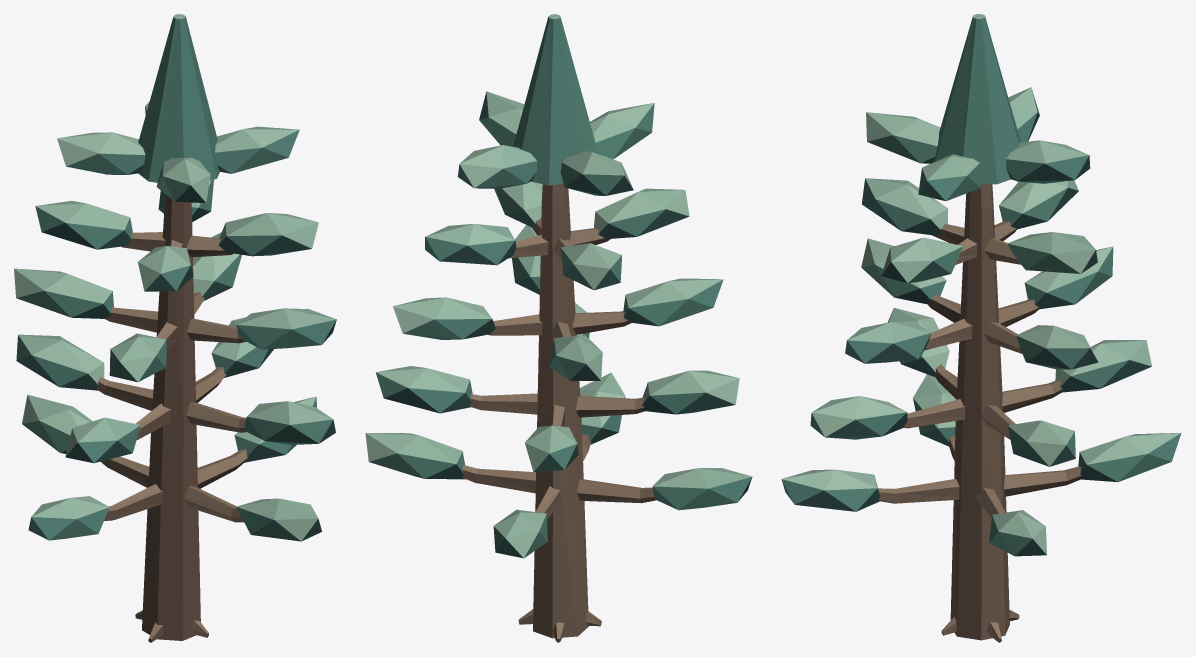
The picture shows the model from 3 angles, left to right: view 1: azimuth 30°, elevation 25°; view 2: azimuth 150°, elevation 25°; view 3: azimuth 270°, elevation 25°; orthographic projection.
Visible parts, largest first — view 1: WK_Tree_Fir_SilverYoung_LOD0_High; view 2: WK_Tree_Fir_SilverYoung_LOD0_High; view 3: WK_Tree_Fir_SilverYoung_LOD0_High.
Boxes of the visible parts, <box> form: WK_Tree_Fir_SilverYoung_LOD0_High: <box>14,14,336,642</box>; WK_Tree_Fir_SilverYoung_LOD0_High: <box>365,14,752,642</box>; WK_Tree_Fir_SilverYoung_LOD0_High: <box>781,14,1181,642</box>.
Size of the model in its own units: 4.31 by 7.45 by 4.39.
